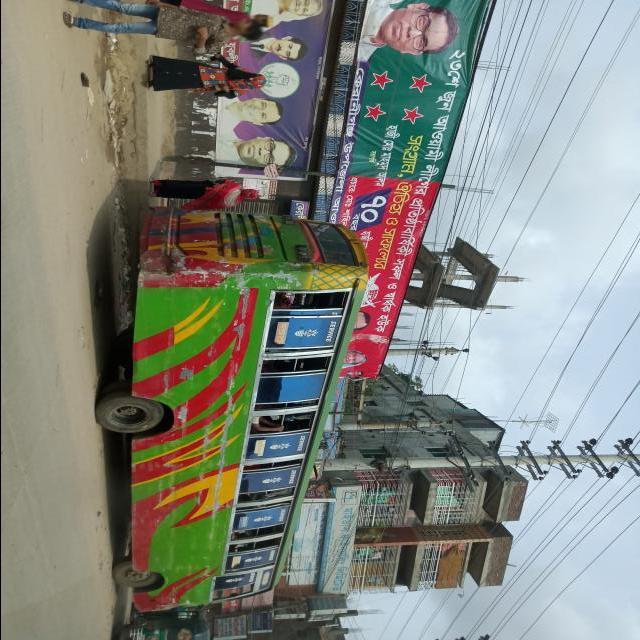bus: (95, 209, 369, 612)
